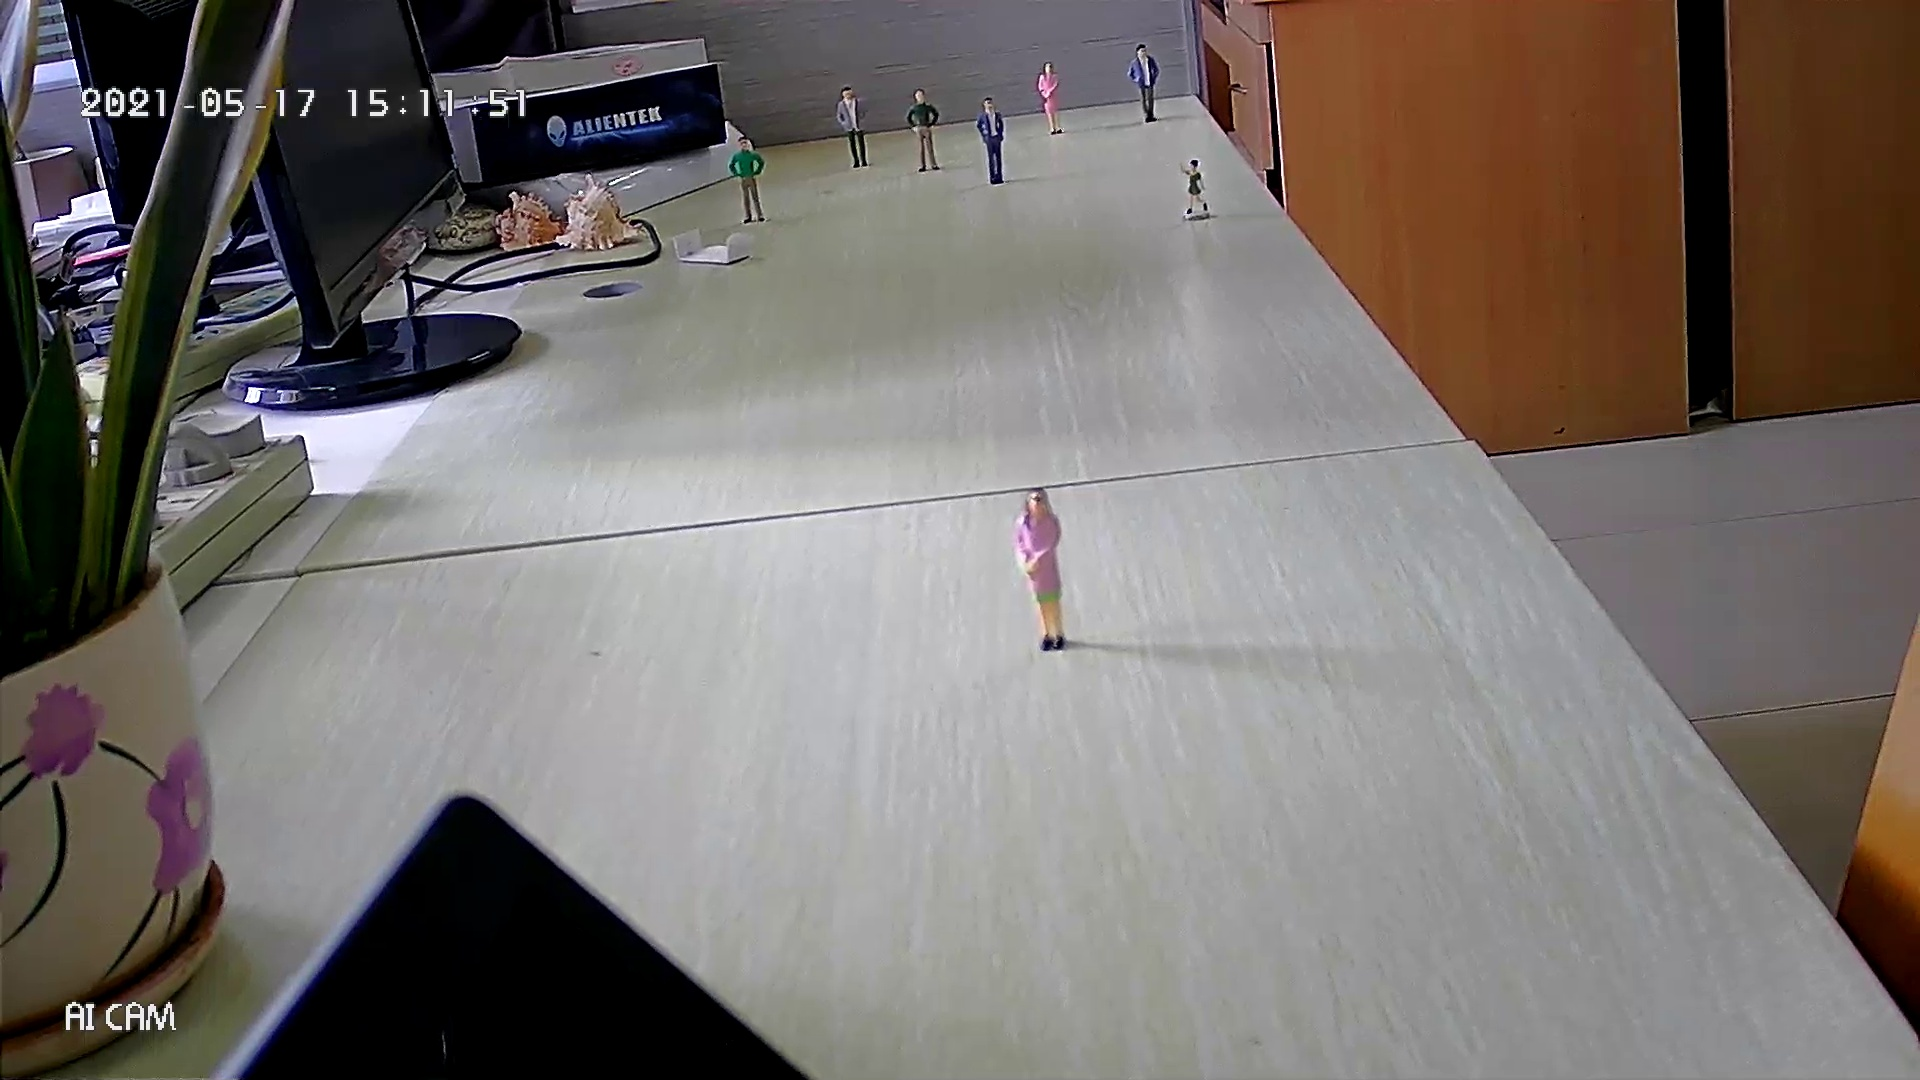person: (1012, 486, 1068, 653), (727, 135, 769, 225), (833, 85, 871, 170), (905, 87, 942, 173), (975, 96, 1007, 186), (1126, 42, 1160, 124), (1035, 60, 1064, 137), (1175, 156, 1211, 215)
